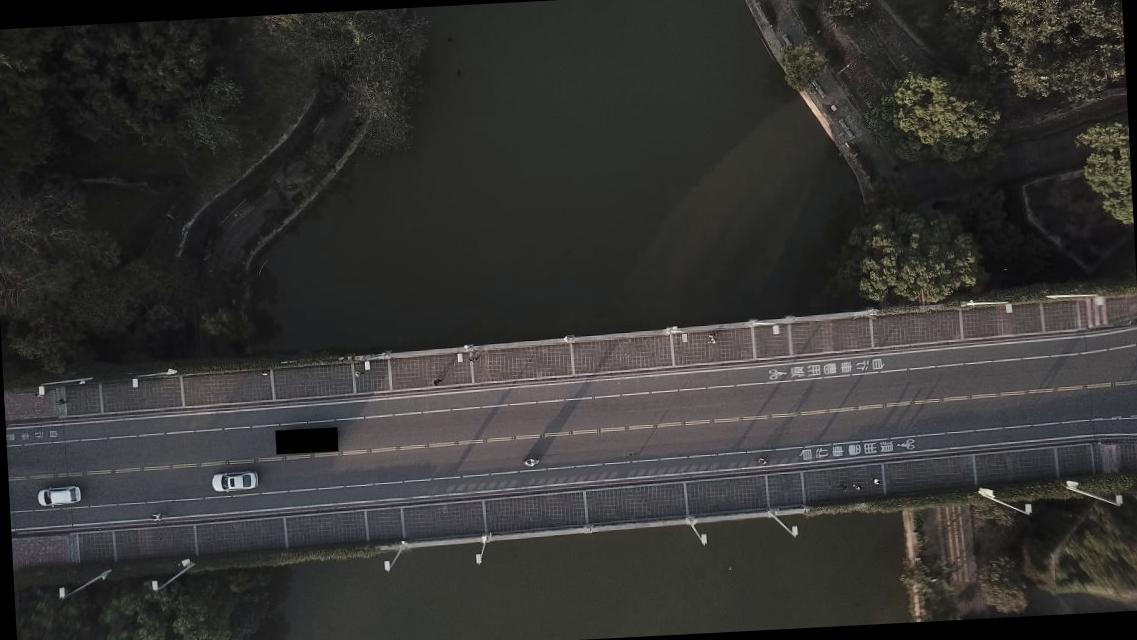vehicle: (210, 470, 258, 492), (37, 485, 80, 508)
